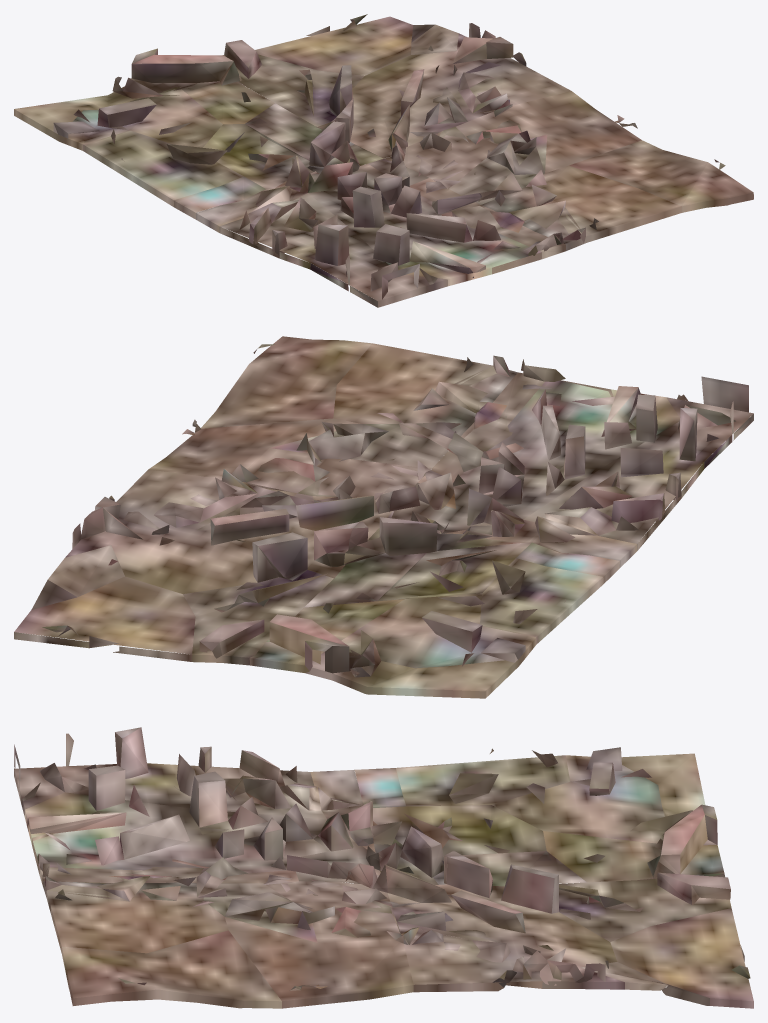
3 renders of one model, top to bottom at view 1: azimuth 30°, elevation 25°; view 2: azimuth 150°, elevation 25°; view 3: azimuth 270°, elevation 25°, orthographic. The views are drawn at different scales.
Visible parts, largest first — view 1: Mesh_0; view 2: Mesh_0; view 3: Mesh_0.
Part boxes in pixels (<box>): Mesh_0: <box>14,14,753,307</box>; Mesh_0: <box>14,336,753,698</box>; Mesh_0: <box>14,727,753,1008</box>.
Bounding box in the file's own units: 532 × 91.43 × 659.
1 material, 1 textured.
